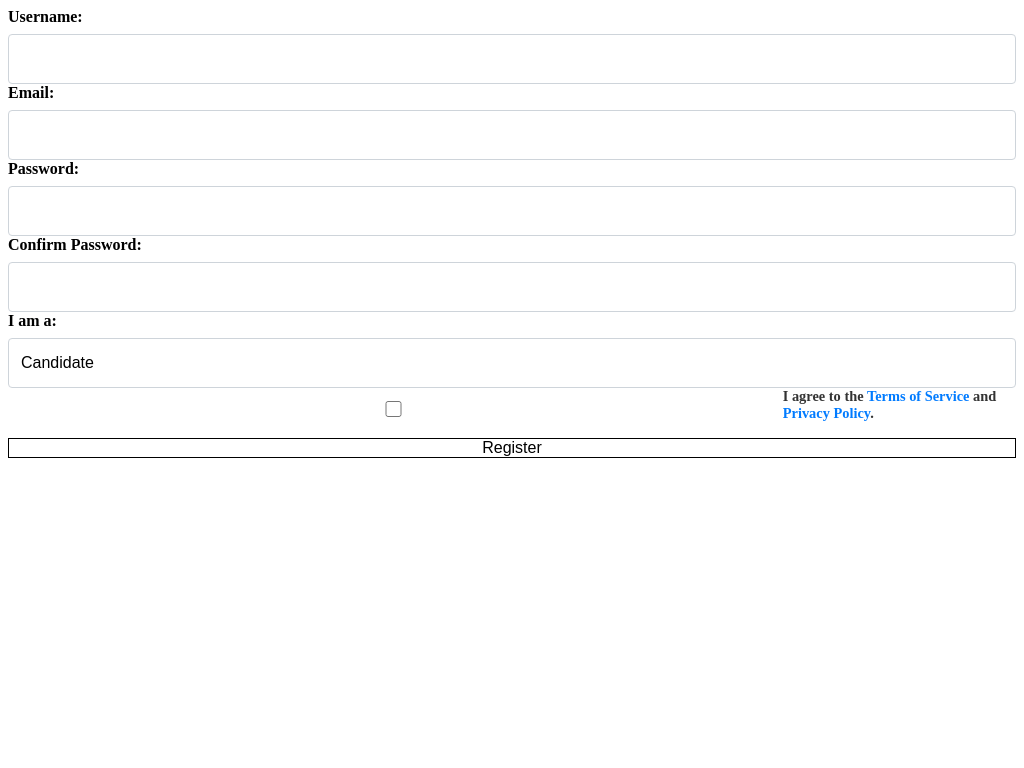
Test: RegistrationForm Component › should show error if passwords do not match
In the field labelled "Username:": (512, 59) [8,34,1016,84], type "testuser"
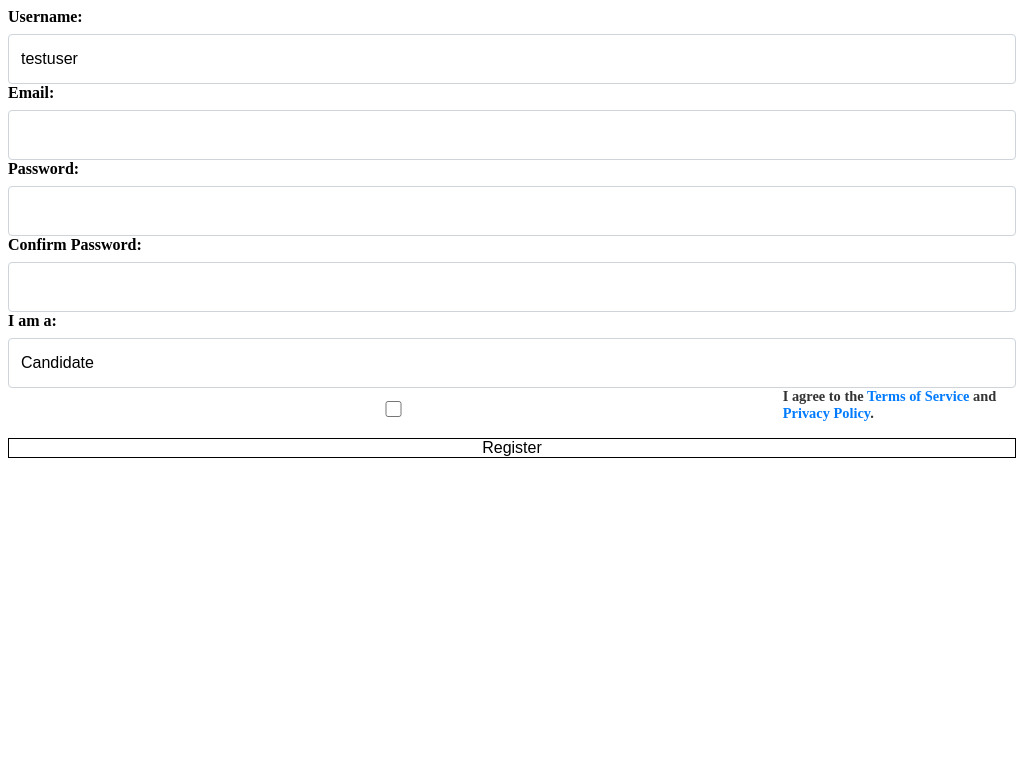
In the field labelled "Email:": (512, 135) [8,110,1016,160], type "test@example.com"
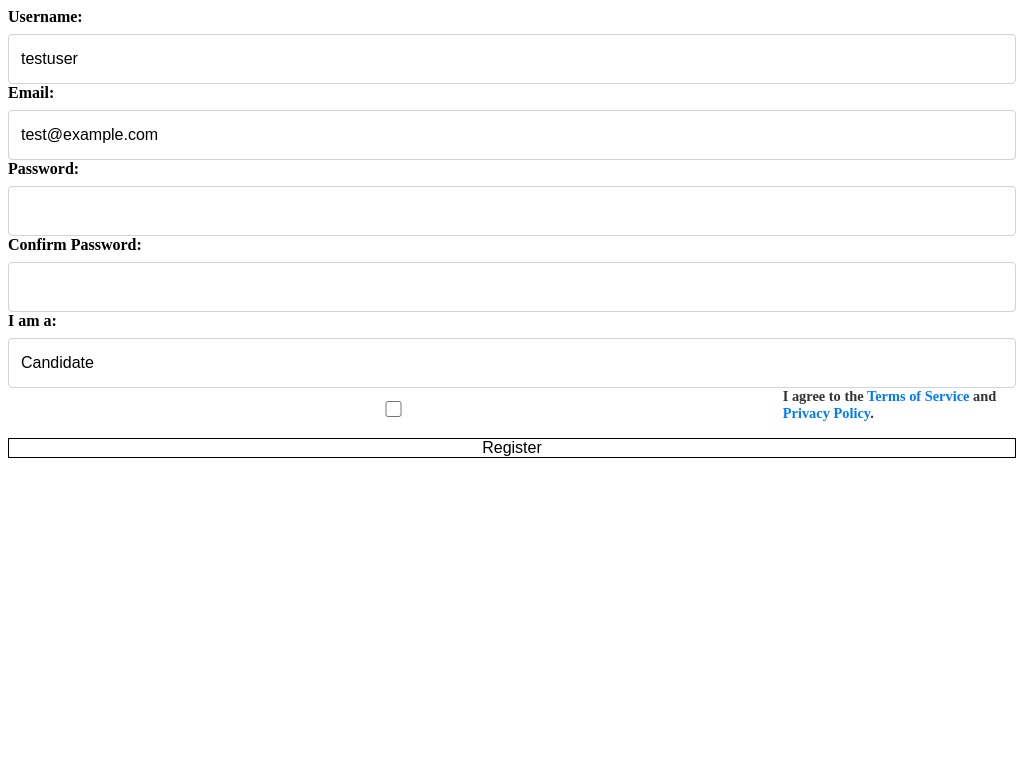
In the password field labelled "Password:": (512, 211) [8,186,1016,236], type "password123"
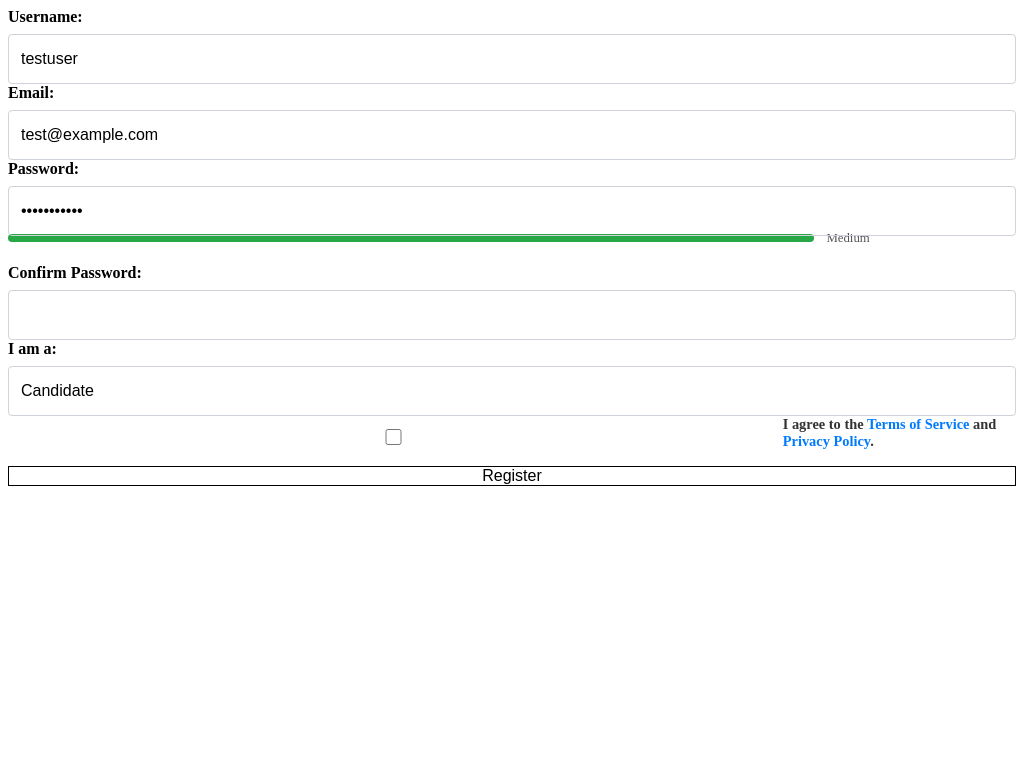
In the password field labelled "Confirm Password:": (512, 315) [8,290,1016,340], type "passwordMismatch"
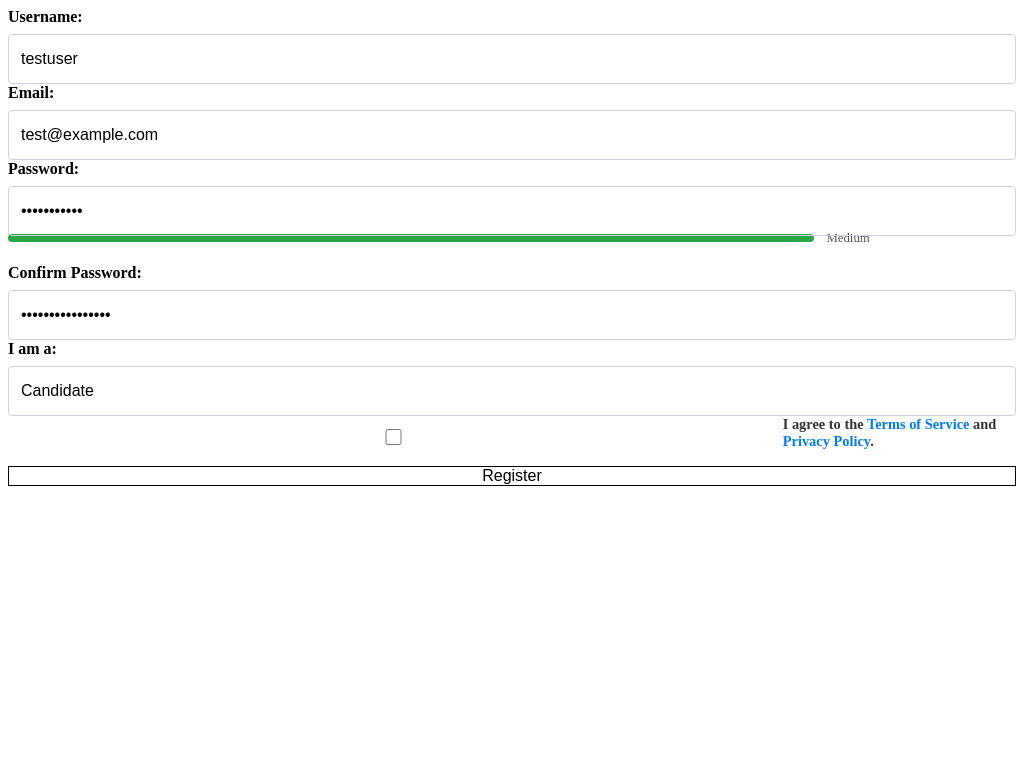
Select "Candidate" in the dropdown labelled "I am a:": (512, 391) [8,366,1016,416]
Click the checkbox labelled "I agree to the Terms of Service and Privacy Policy .": (393, 437) [12,429,775,445]
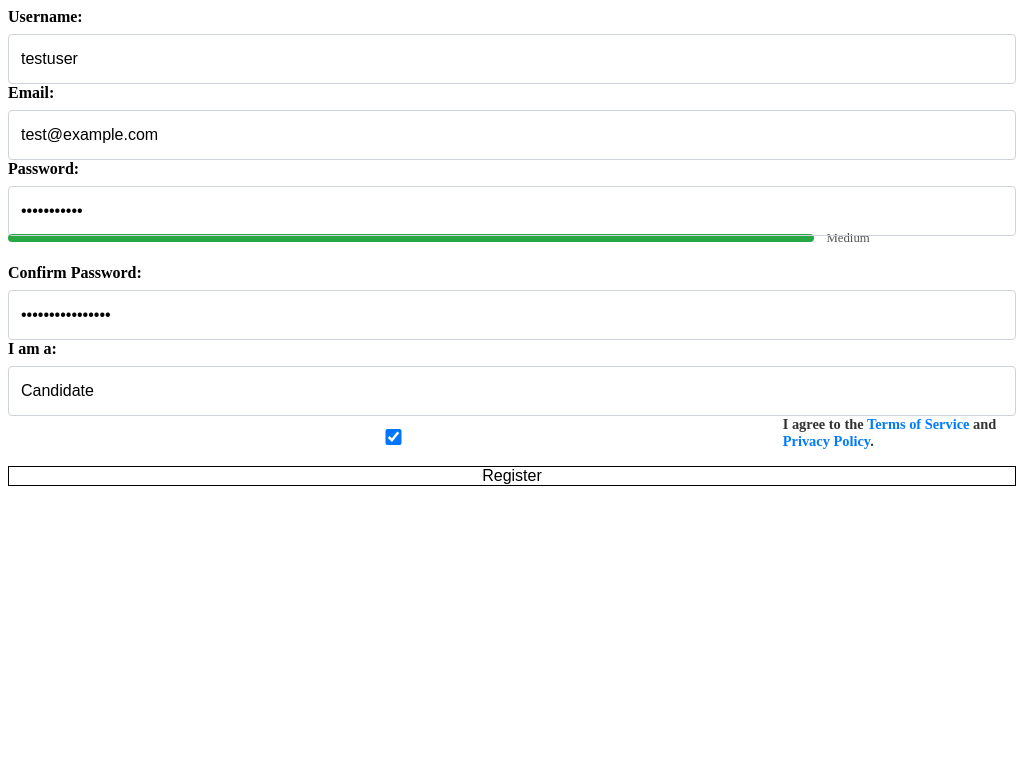
Click the button "Register": (512, 476) [8,466,1016,486]
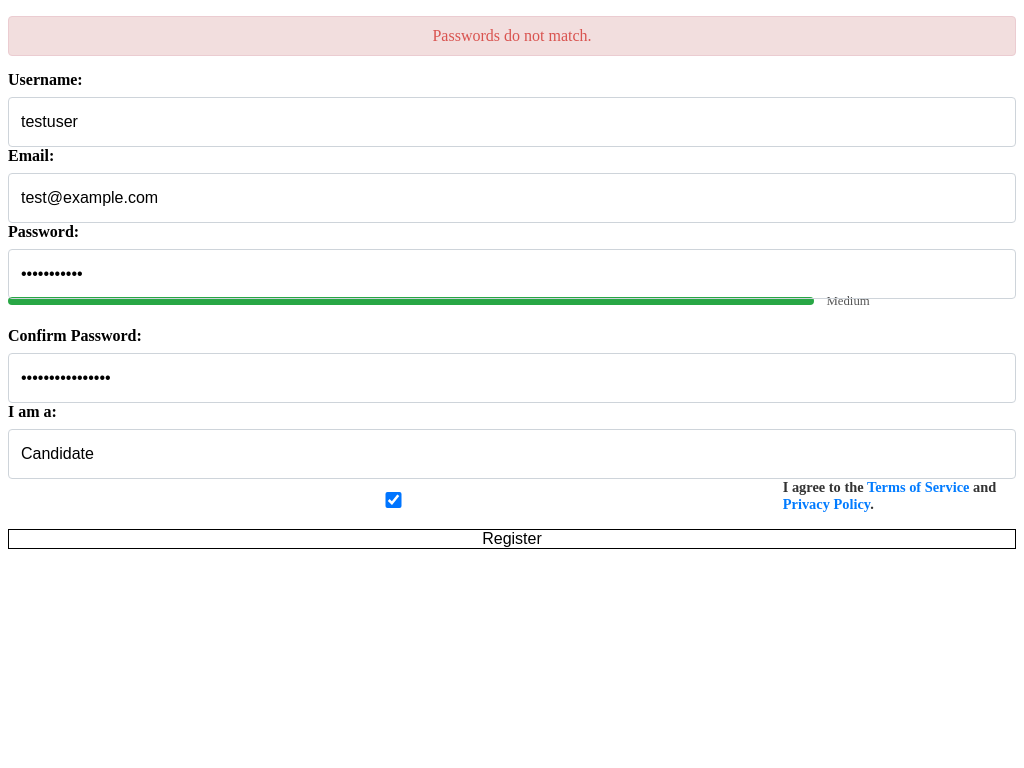
Check: the message reads "Passwords do not match.", box [432,27,592,44]
